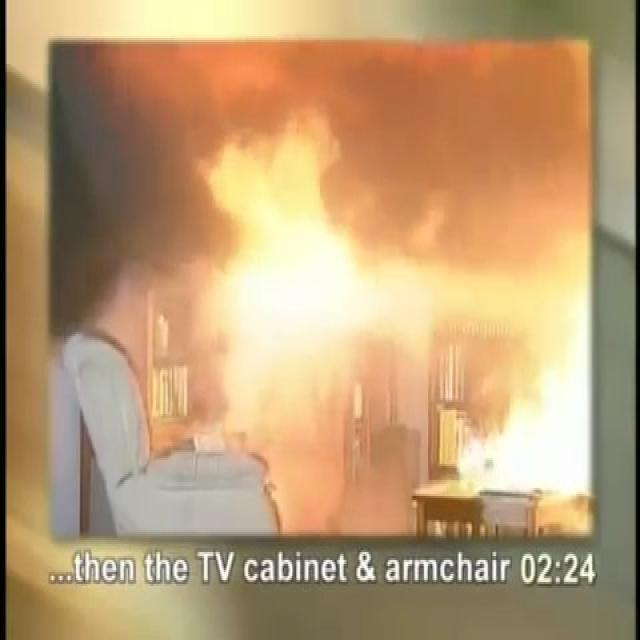Fire: (188, 86, 592, 497)
